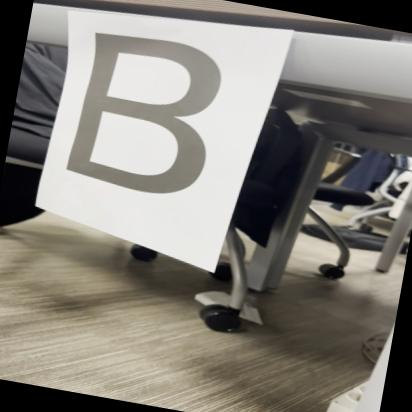seat: (39, 11, 246, 216)
